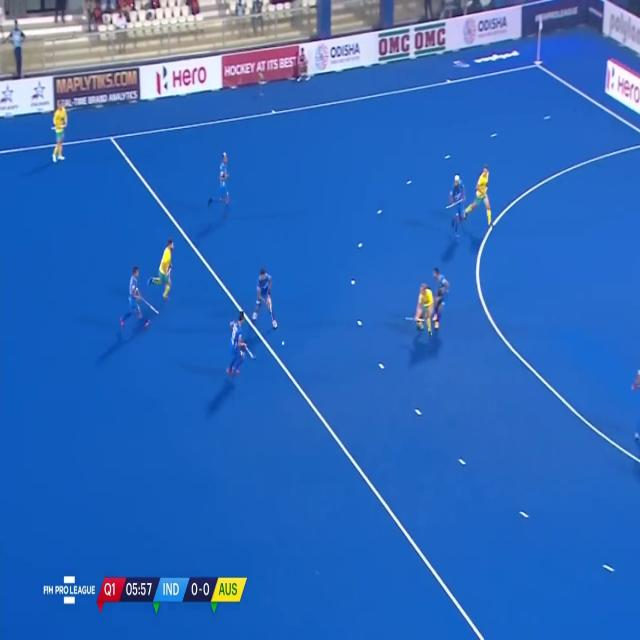ball: (280, 339, 286, 348)
